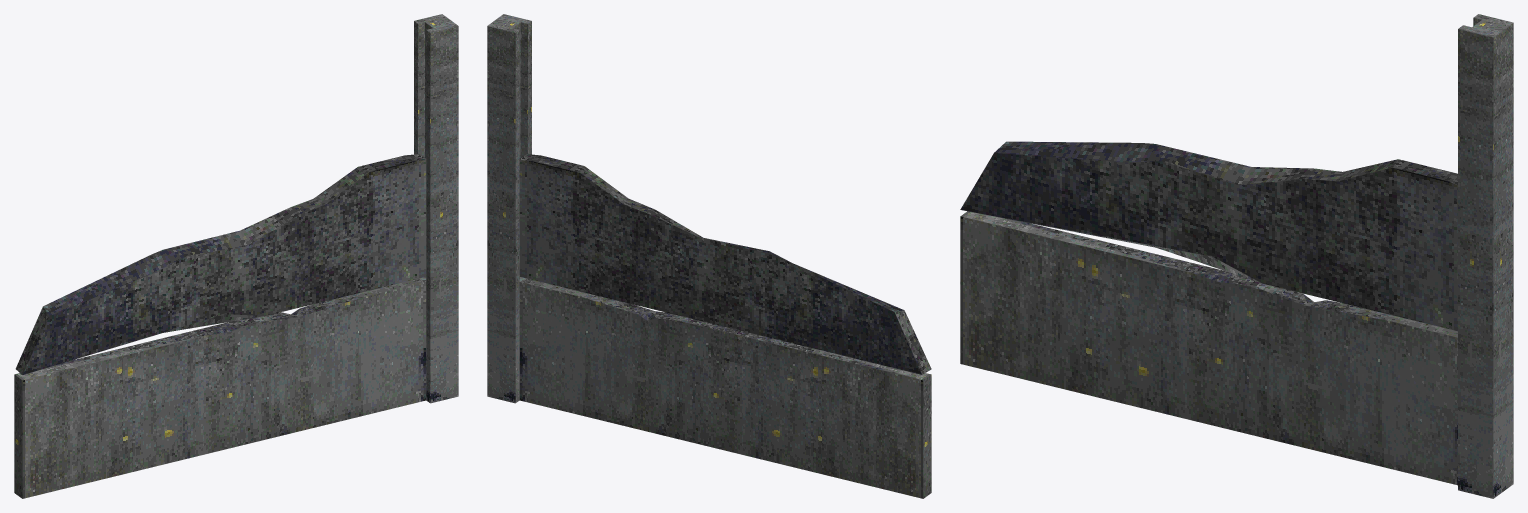
File: plackard_broken_old.glb
The picture shows the model from 3 angles, left to right: view 1: azimuth 30°, elevation 25°; view 2: azimuth 150°, elevation 25°; view 3: azimuth 330°, elevation 25°; orthographic projection. The views are drawn at different scales.
Parts seen in each view (by area): view 1: plackard_broken; view 2: plackard_broken; view 3: plackard_broken.
Boxes of the visible parts, x1=… form: plackard_broken: x1=14, y1=14, x2=458, y2=498; plackard_broken: x1=487, y1=14, x2=931, y2=498; plackard_broken: x1=960, y1=14, x2=1513, y2=498.
Size of the model in its own units: 3.05 by 2.5 by 0.2.
1 material, 1 textured.
